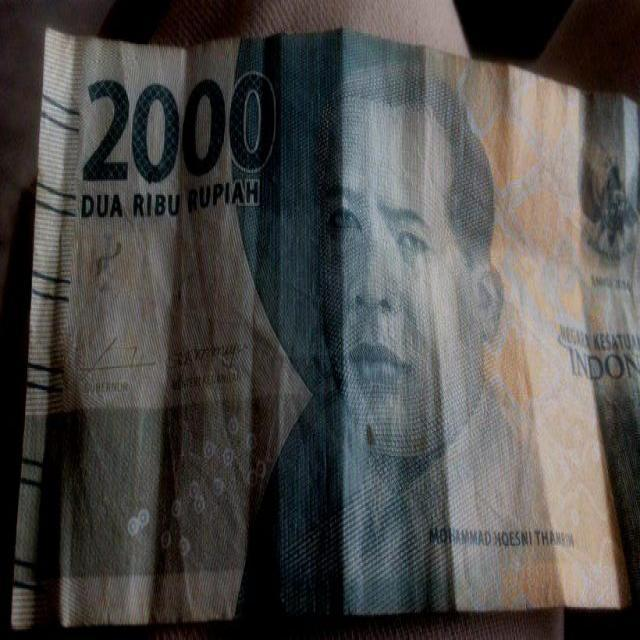dua ribu rupiah: (48, 26, 640, 622), (308, 52, 512, 471), (71, 66, 276, 228)
